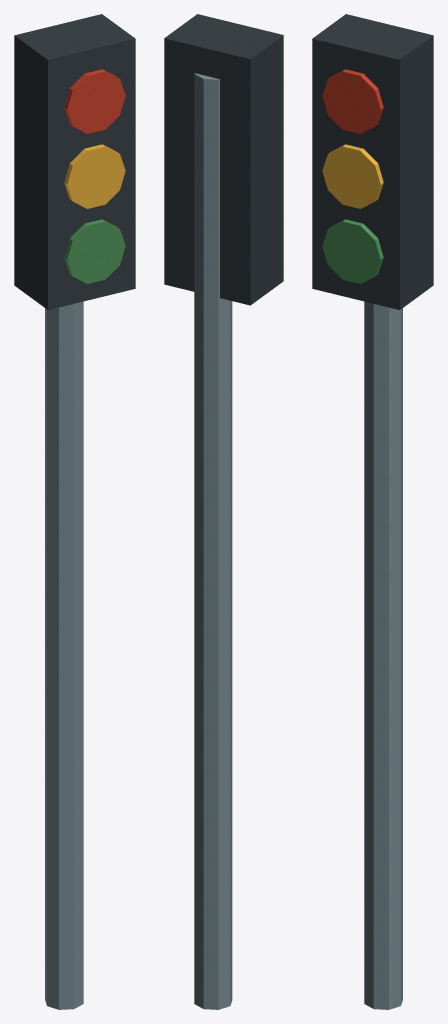
File: low-poly-city-traffic-light.glb
3 views of the same model, side by side, from view 1: azimuth 30°, elevation 25°; view 2: azimuth 150°, elevation 25°; view 3: azimuth 330°, elevation 25° (orthographic).
Visible parts, largest first — view 1: Traffic pole 001, Signal housing 002, Signal lens 005, Signal lens 003, Signal lens 004; view 2: Traffic pole 001, Signal housing 002; view 3: Traffic pole 001, Signal housing 002, Signal lens 005, Signal lens 003, Signal lens 004.
Boxes of the visible parts, <box> form: Traffic pole 001: <box>45,301,83,1009</box>; Signal housing 002: <box>14,14,135,309</box>; Signal lens 005: <box>64,219,125,283</box>; Signal lens 003: <box>64,69,125,133</box>; Signal lens 004: <box>64,144,125,208</box>; Traffic pole 001: <box>194,73,232,1009</box>; Signal housing 002: <box>164,14,283,305</box>; Traffic pole 001: <box>364,301,402,1009</box>; Signal housing 002: <box>312,14,433,309</box>; Signal lens 005: <box>322,219,383,283</box>; Signal lens 003: <box>322,69,383,133</box>; Signal lens 004: <box>322,144,383,208</box>.
Size of the model in its own units: 0.33 by 3.5 by 0.275.
5 materials, 5 textured.
